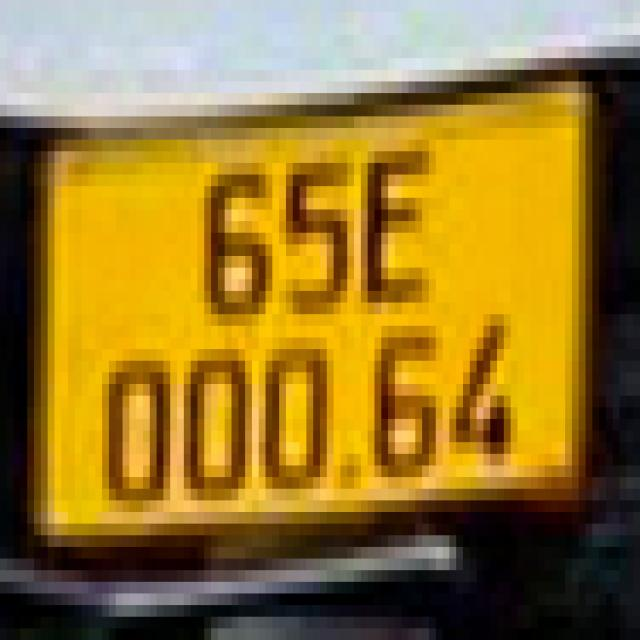0: (97, 346, 177, 513), (184, 338, 258, 510), (259, 337, 332, 505)
4: (450, 307, 522, 481)
5: (280, 145, 355, 327)
6: (195, 155, 273, 326), (367, 316, 442, 486)
E: (362, 136, 434, 315)
